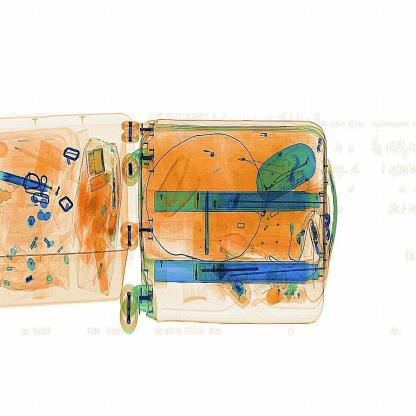pliers: (200, 184, 212, 260)
